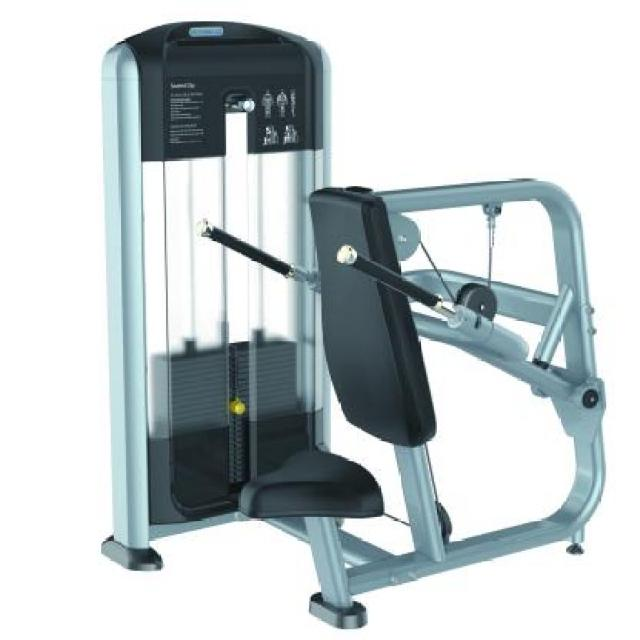seated dip machine: (94, 14, 608, 631)
